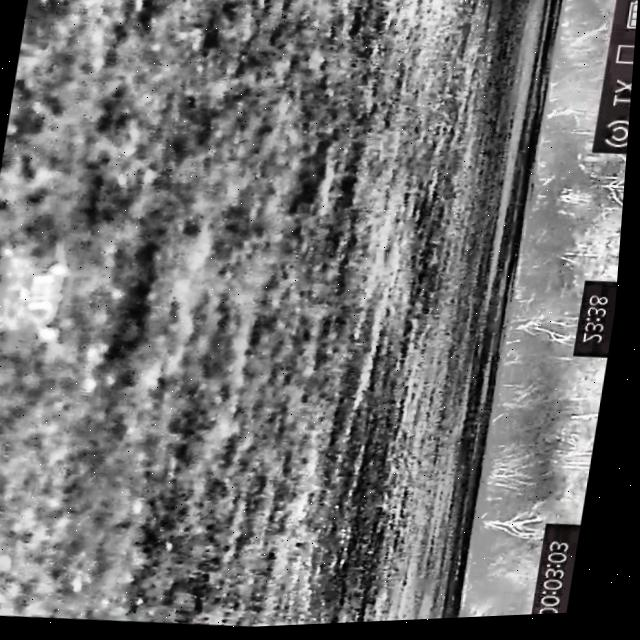drone: (0, 242, 80, 348)
